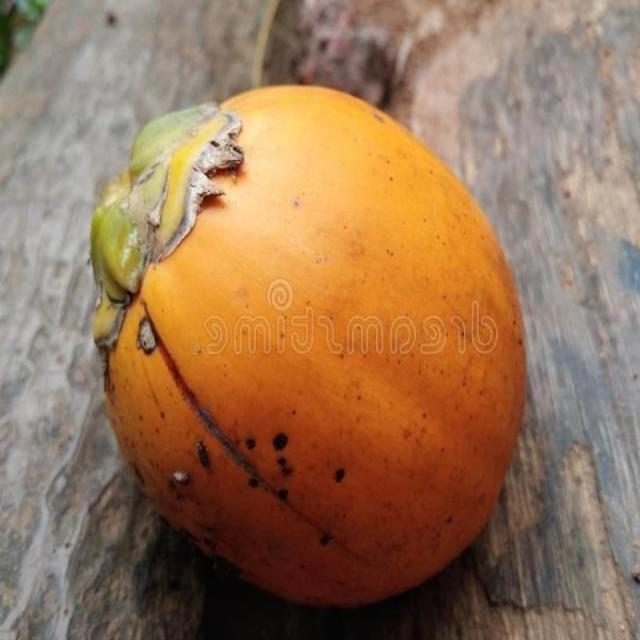good: (90, 85, 529, 599)
